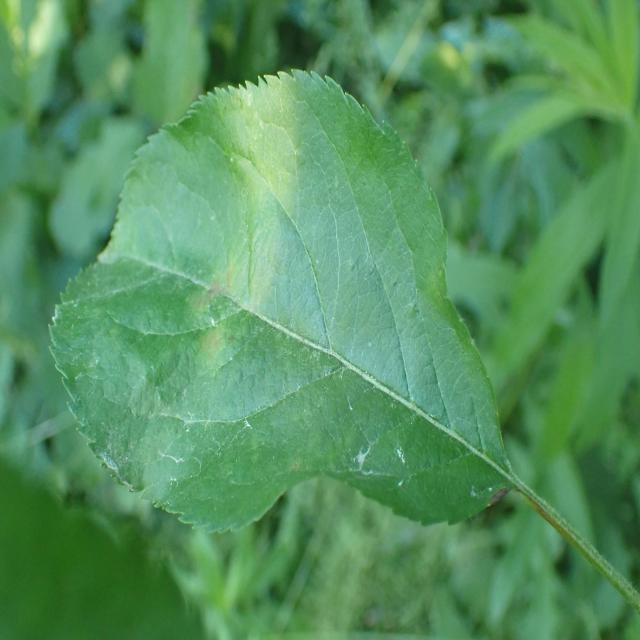scab: (86, 76, 462, 512)
